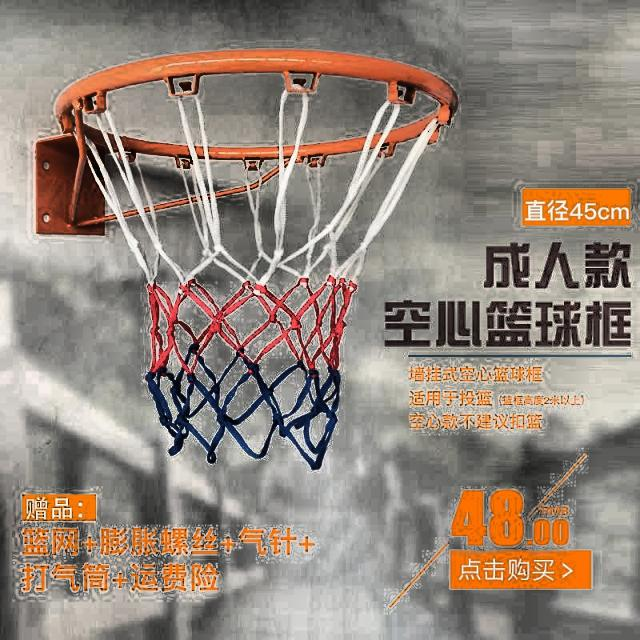rim: (58, 48, 460, 470)
